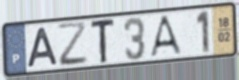1: (195, 9, 212, 55)
3: (123, 15, 146, 62)
A: (148, 14, 185, 59), (25, 26, 60, 69)
T: (90, 16, 117, 66)
Z: (55, 20, 90, 69)
